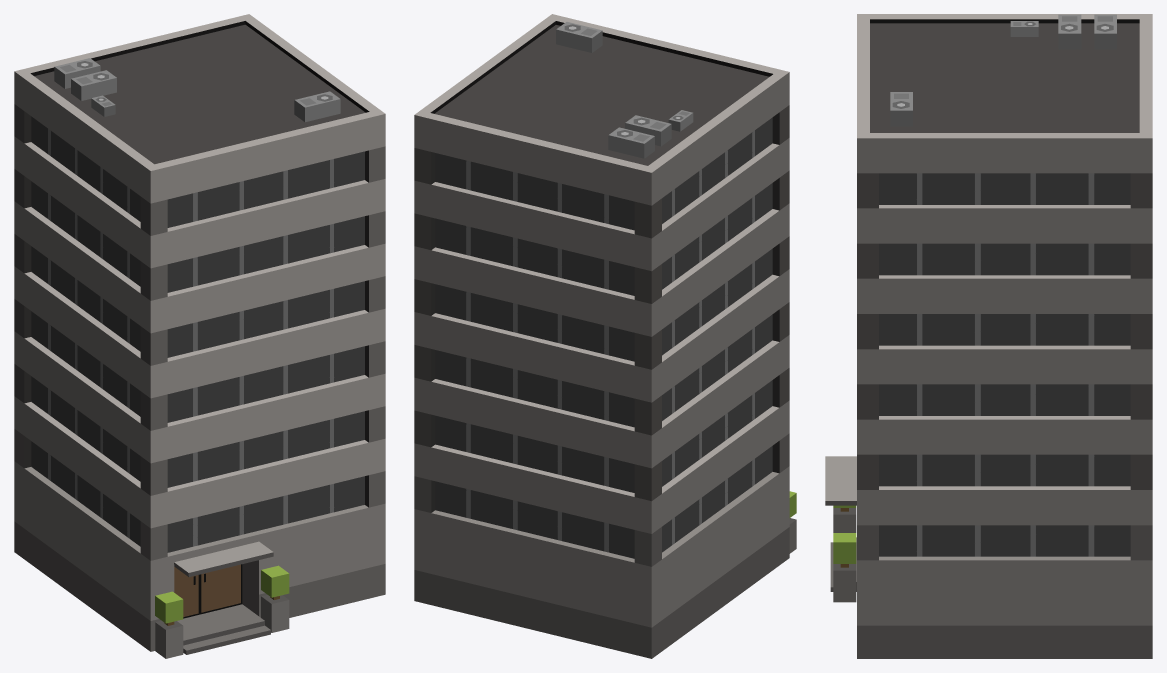
File: office_large_grey.obj
3 renders of one model, left to right at view 1: azimuth 30°, elevation 25°; view 2: azimuth 150°, elevation 25°; view 3: azimuth 270°, elevation 25°, orthographic. The views are drawn at different scales.
Parts seen in each view (by area): view 1: ST_Building_OfficeLarge_Grey_Untitled.002; view 2: ST_Building_OfficeLarge_Grey_Untitled.002; view 3: ST_Building_OfficeLarge_Grey_Untitled.002.
Boxes of the visible parts, left/top/right/bottom form: ST_Building_OfficeLarge_Grey_Untitled.002: left=14, top=14, right=385, bottom=658; ST_Building_OfficeLarge_Grey_Untitled.002: left=414, top=14, right=796, bottom=658; ST_Building_OfficeLarge_Grey_Untitled.002: left=825, top=14, right=1152, bottom=658.
Size of the model in its own units: 13.62 by 27.24 by 15.17.
1 material, 1 textured.
